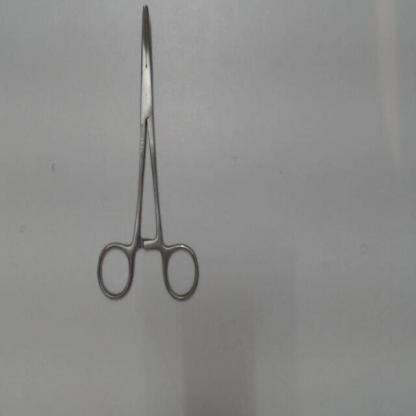Crile Artery Forceps: (92, 1, 206, 308)
